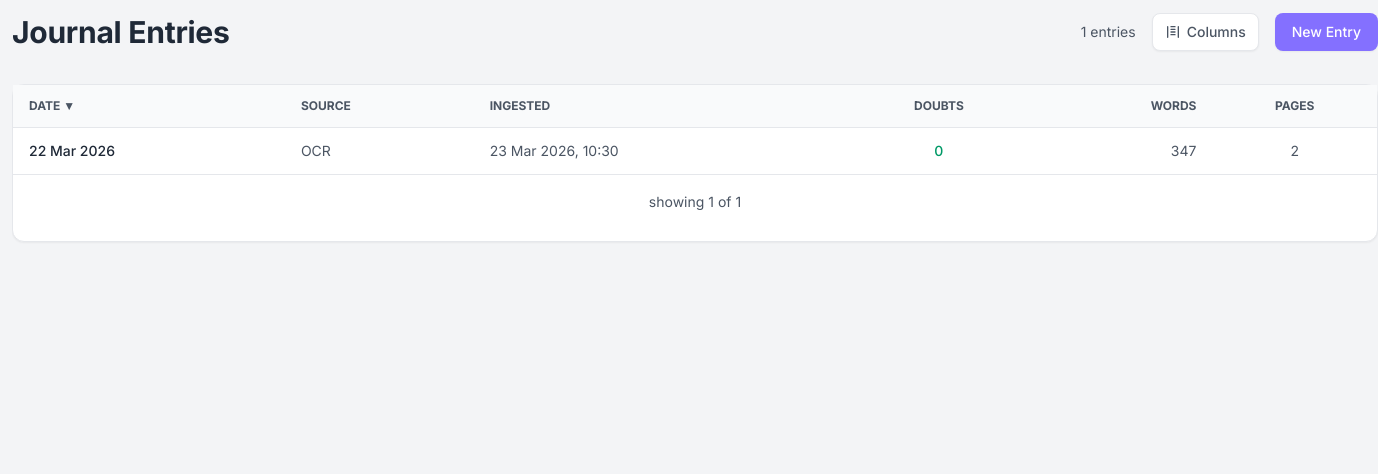
Test: Column visibility › shows new columns when toggled on
The image size is (1378, 474).
Step 1. Click the button with test id "columns-button" → (1205, 32), box [1152,13,1259,51]
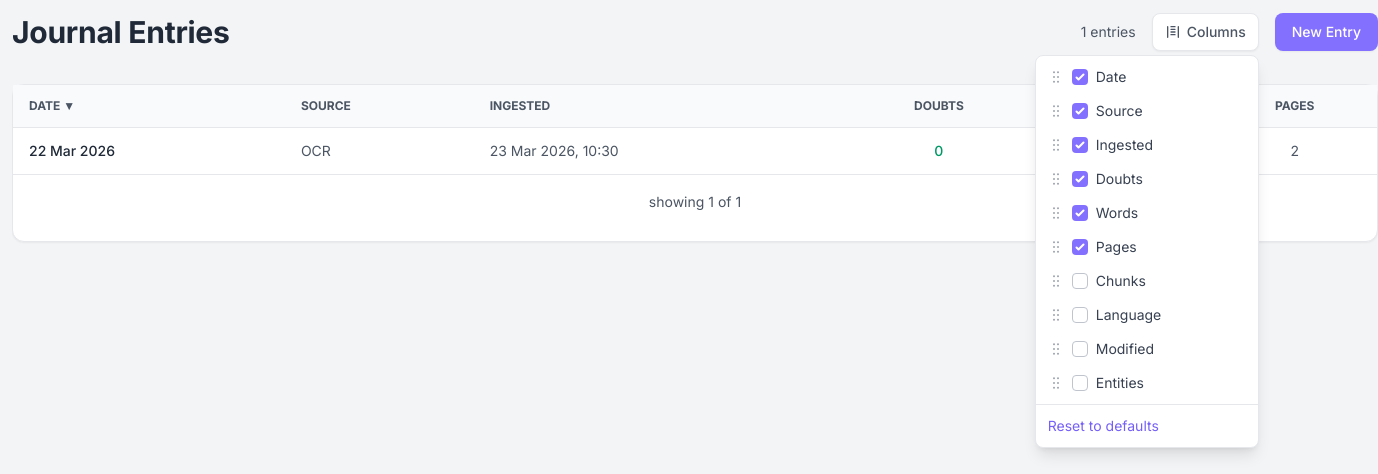
Step 2. Click the checkbox with test id "col-toggle-language" → (1080, 315), box [1072,307,1088,323]
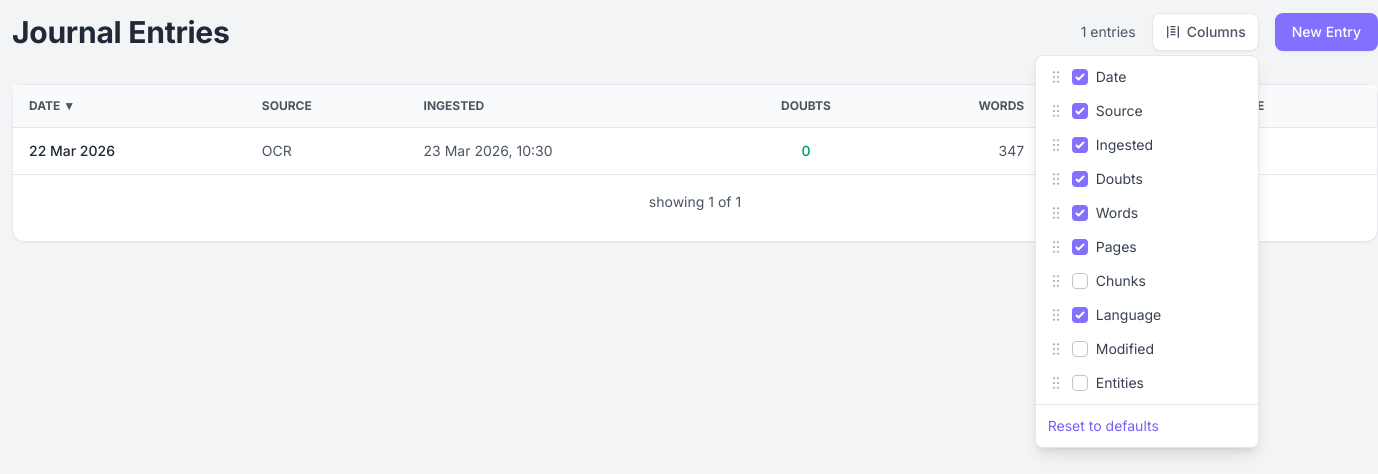
Step 3. Click the checkbox with test id "col-toggle-updated_at" → (1080, 349), box [1072,341,1088,357]
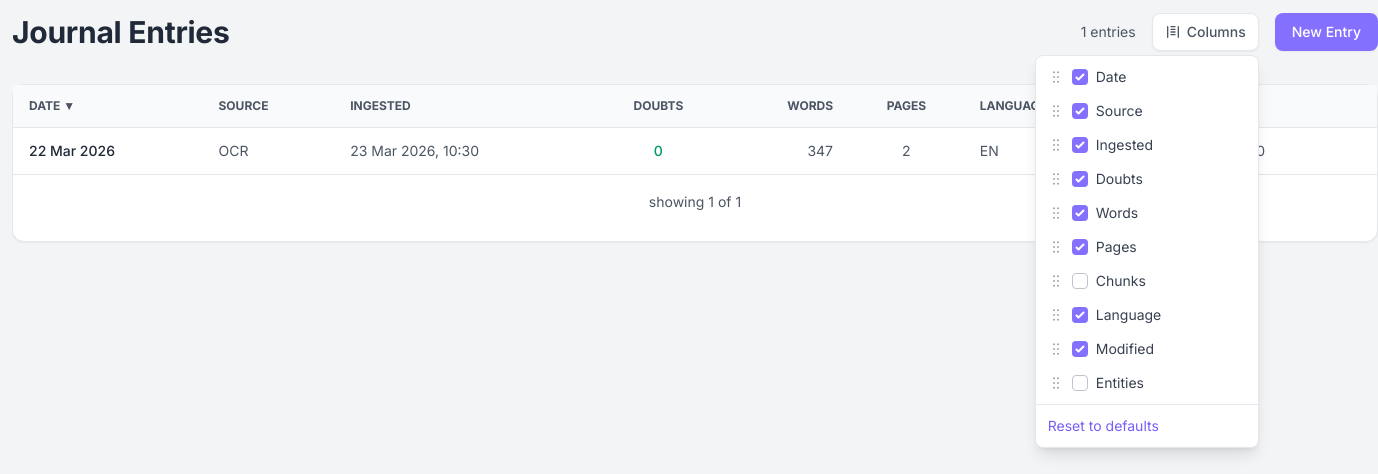
Step 4. Click the checkbox with test id "col-toggle-entity_mention_count" → (1080, 383), box [1072,375,1088,391]
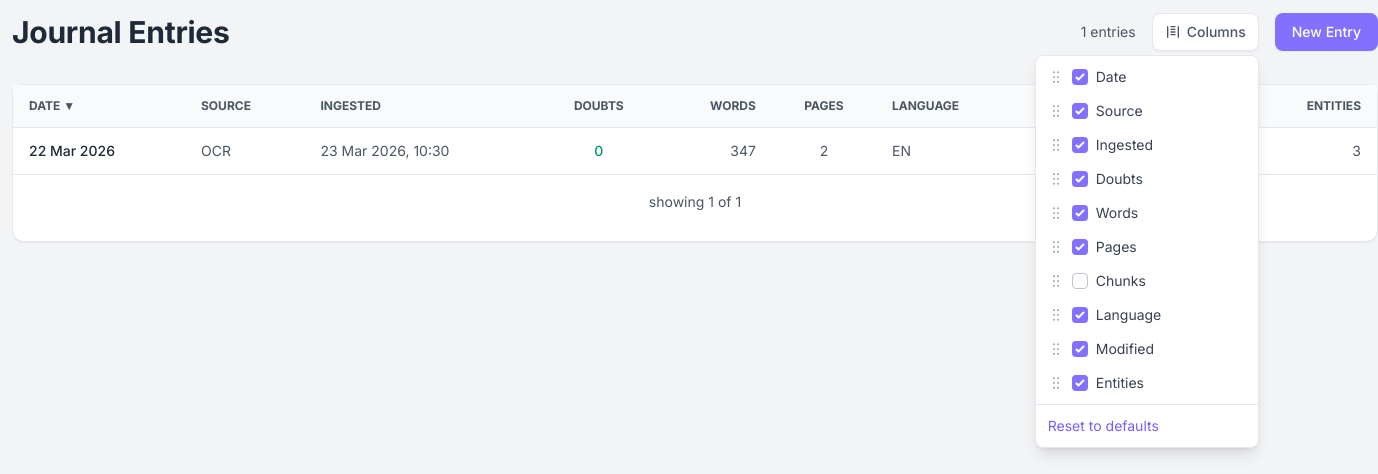
Expected: the column heading with test id "sort-language" is shown, [876,85,1021,128]
Expected: the column heading with test id "sort-modified" is shown, [1021,85,1251,128]
Expected: the column heading with test id "sort-entities" is shown, [1251,85,1377,128]
